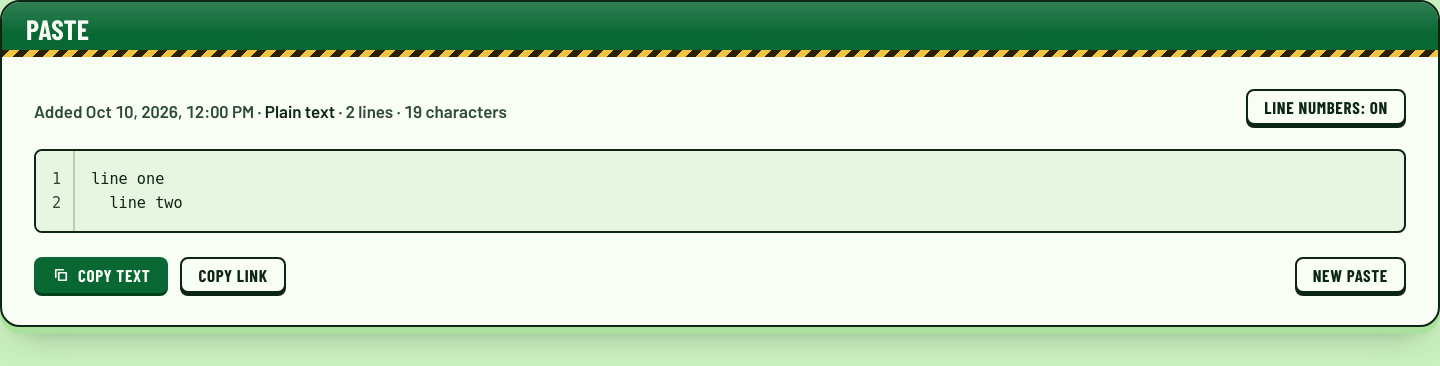
it: PasteViewer › says so when copying fails
Click the button "Copy text".
click(101, 275)  # box [34,257,168,293]
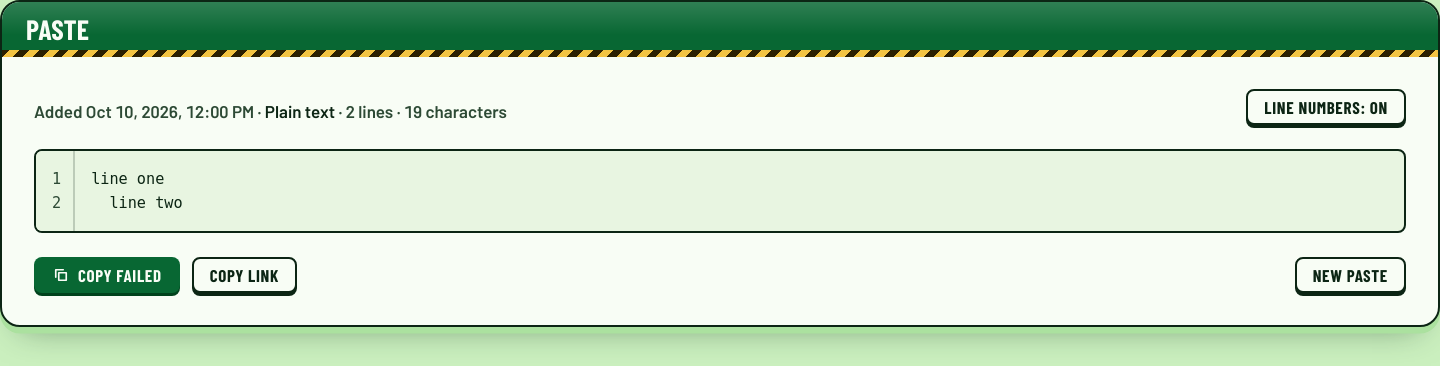
Click the button "Copy link".
click(244, 275)  # box [192,257,297,293]
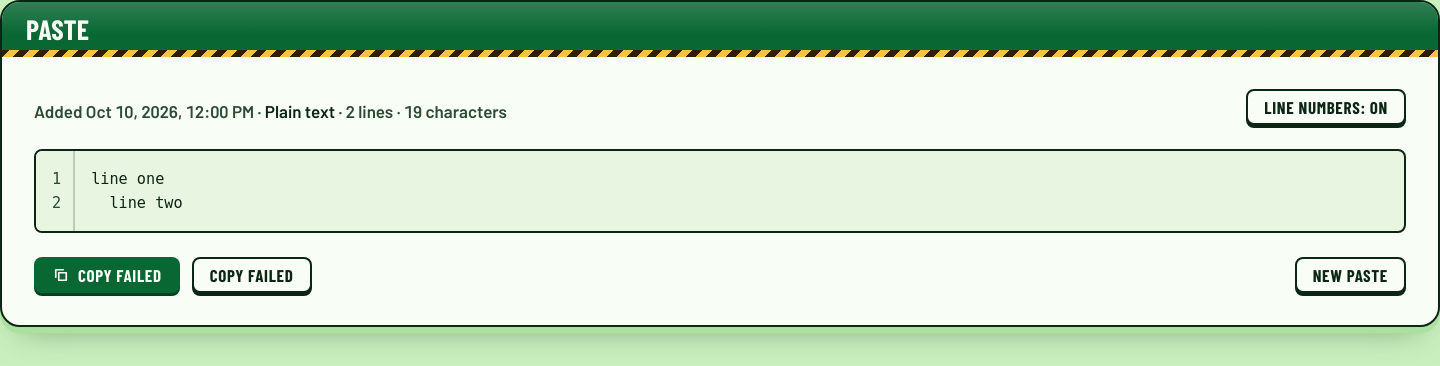
Result: the 1st button "Copy failed" is shown at [34,257,180,293]
Result: the 2nd button "Copy failed" is shown at [192,257,312,293]
